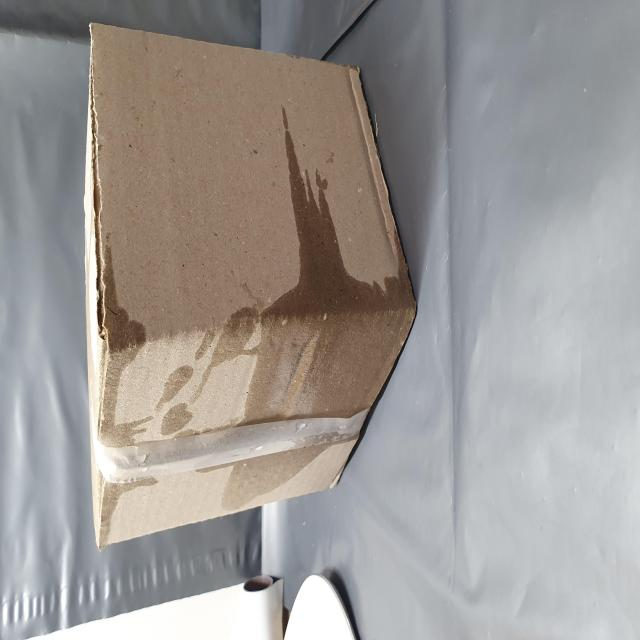wet: (66, 413, 282, 640)
